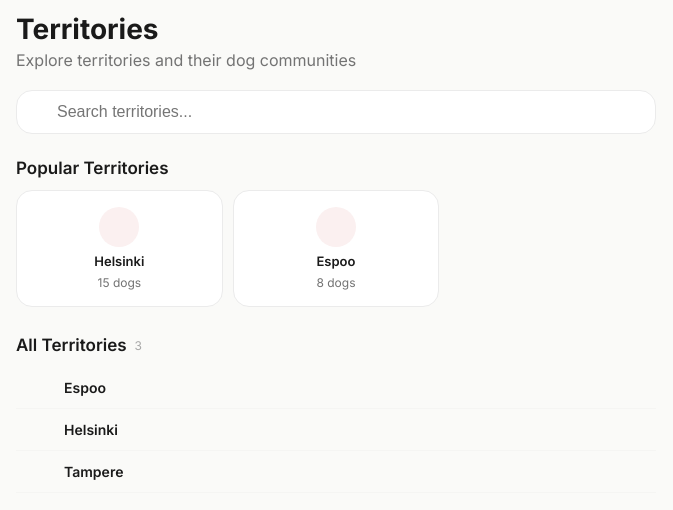
Test case: TerritoryDirectoryView › shows empty state when search has no results
Expected: the number of links with class "territory-alpha-item" is 3, x1=16 y1=367 x2=656 y2=409; x1=16 y1=409 x2=656 y2=451; x1=16 y1=451 x2=656 y2=493
Step 1. Type "zzzzz" into the field with placeholder "Search territories..." → [336, 112], box x1=16 y1=90 x2=656 y2=134
Wait 300 ms
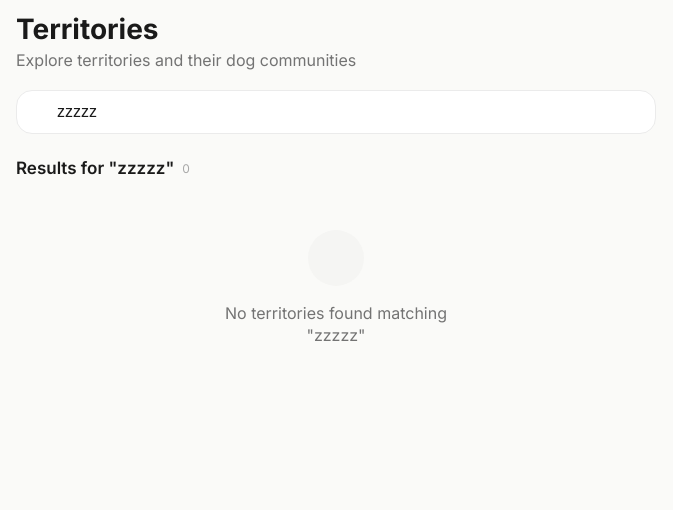
Expected: the element with class "woof-empty-state" is shown, x1=225 y1=230 x2=447 y2=345
